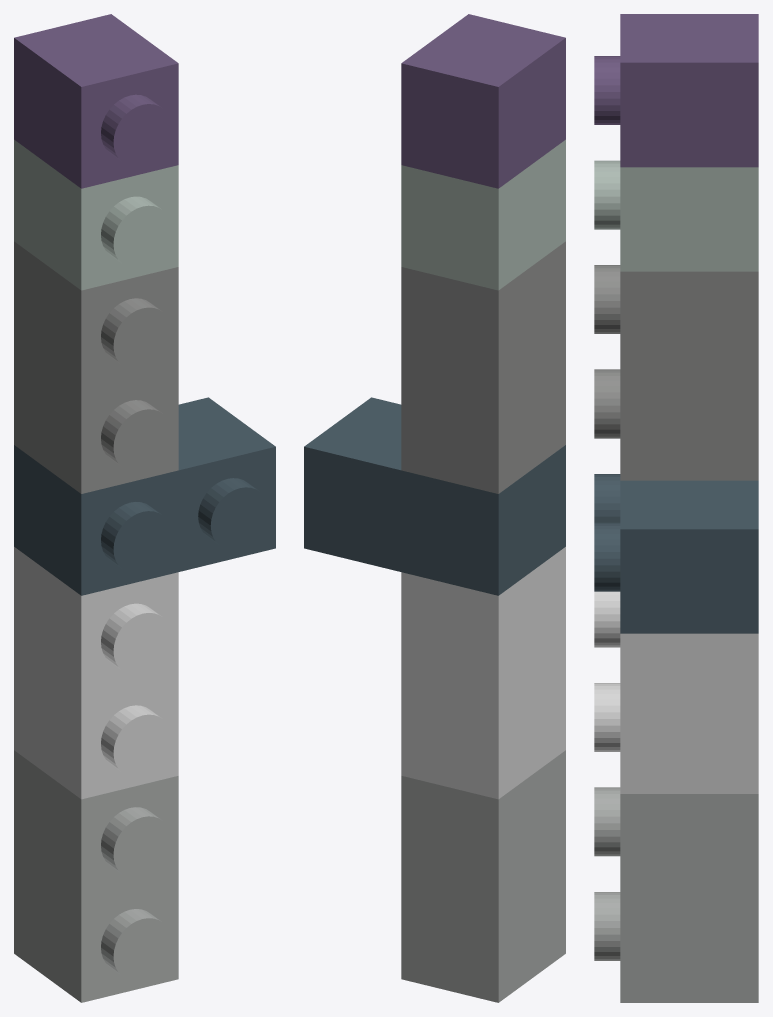
The model's file is current.glb.
The picture shows the model from 3 angles, left to right: view 1: azimuth 30°, elevation 25°; view 2: azimuth 150°, elevation 25°; view 3: azimuth 270°, elevation 25°; orthographic projection. The views are drawn at different scales.
Parts seen in each view (by area): view 1: world; view 2: world; view 3: world.
Boxes of the visible parts, x1,y1,x2,y2 form: world: (14, 14, 275, 1002); world: (304, 14, 565, 1002); world: (594, 14, 758, 1002).
Size of the model in its own units: 16 by 72 by 11.4.
